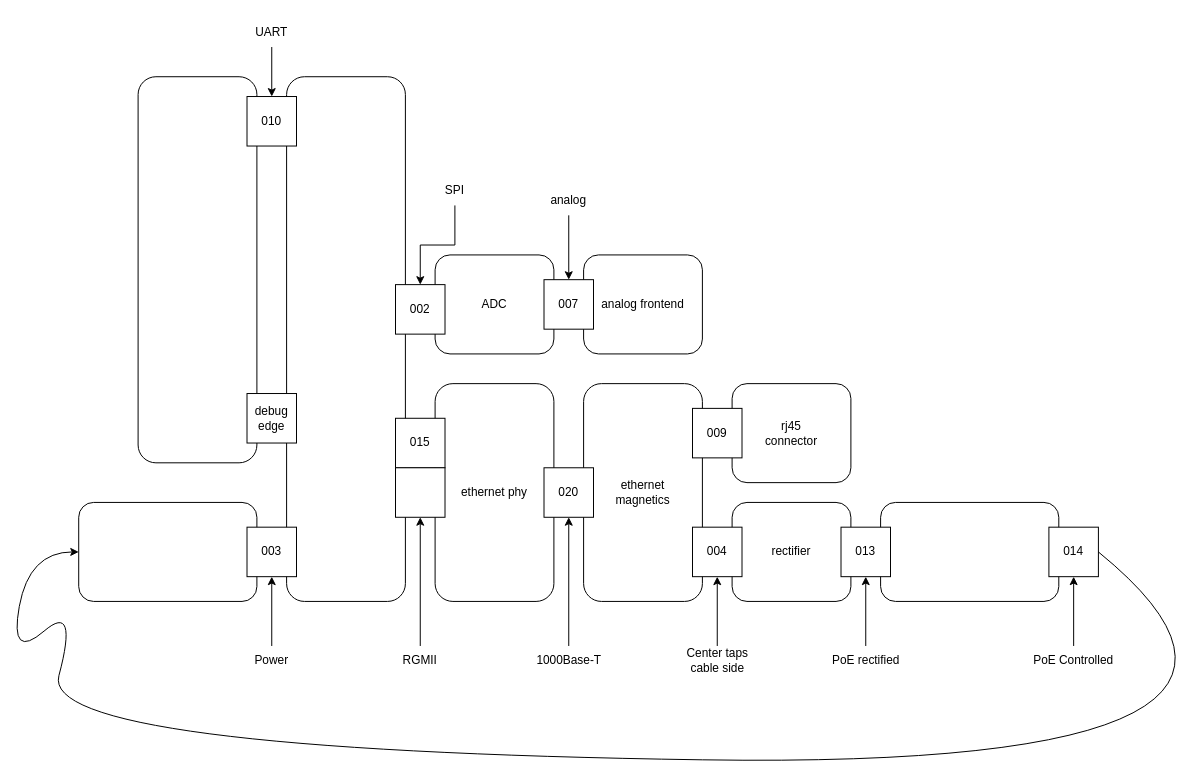
Image size: 1193x777. Some labels were removed from this diagram. The shapes that lost their labels are listed below. From the top down, each one's centre as x and y in pixels, then its label:
(197,269): pi cm4
(345,338): microcontroller
(167,551): DCDC
(969,551): PoE Power Device
